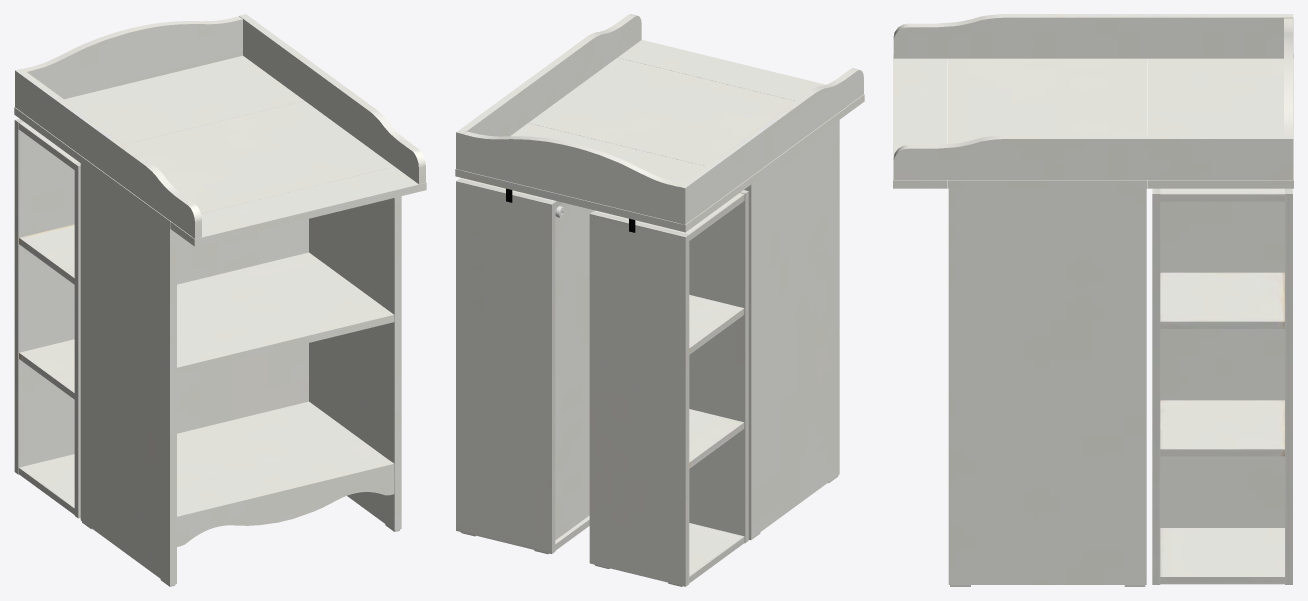
Rendered from smagora_stolik_do_przewijania_rega_1_po_59597521.glb.
3 renders of one model, left to right at view 1: azimuth 30°, elevation 25°; view 2: azimuth 150°, elevation 25°; view 3: azimuth 270°, elevation 25°, orthographic. The views are drawn at different scales.
Parts seen in each view (by area): view 1: smagora_stolik_do_przewijania_rega_1_po_59597521; view 2: smagora_stolik_do_przewijania_rega_1_po_59597521; view 3: smagora_stolik_do_przewijania_rega_1_po_59597521.
Boxes of the visible parts, x1,y1,x2,y2 form: smagora_stolik_do_przewijania_rega_1_po_59597521: (14, 14, 426, 586); smagora_stolik_do_przewijania_rega_1_po_59597521: (455, 14, 864, 586); smagora_stolik_do_przewijania_rega_1_po_59597521: (893, 14, 1293, 586).
Bounding box in the file's own units: 0.6001 × 1.03 × 0.8082.
Materials: 1 (1 with a texture image).
